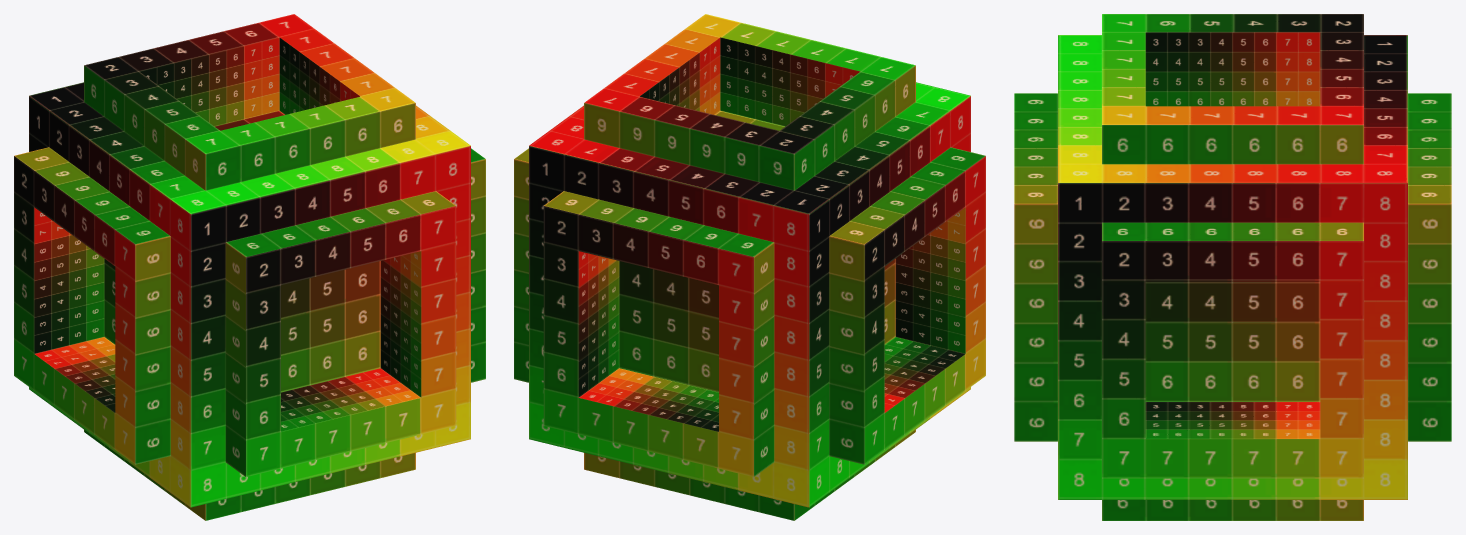
Rendered from StaticMeshes.obj.
3 renders of one model, left to right at view 1: azimuth 30°, elevation 25°; view 2: azimuth 150°, elevation 25°; view 3: azimuth 270°, elevation 25°, orthographic. The views are drawn at different scales.
Parts seen in each view (by area): view 1: SM_Mesh_NoUVs_2; view 2: SM_Mesh_NoUVs_2; view 3: SM_Mesh_NoUVs_2.
Part boxes in pixels (bbox=[...]): SM_Mesh_NoUVs_2: bbox=[14, 14, 485, 520]; SM_Mesh_NoUVs_2: bbox=[514, 14, 985, 520]; SM_Mesh_NoUVs_2: bbox=[1014, 14, 1451, 520].
Bounding box in the file's own units: 102 × 102 × 102.
1 material, 1 textured.
